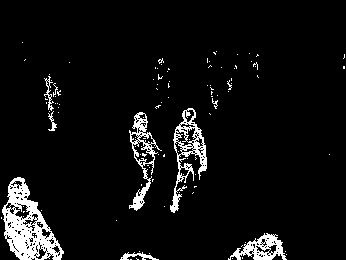person: (1, 174, 67, 260), (127, 111, 166, 214), (171, 108, 208, 214), (42, 73, 63, 133)
